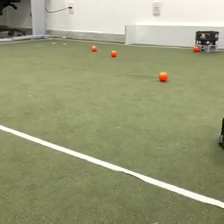ball: (157, 70, 168, 81), (109, 48, 118, 58), (192, 44, 200, 53), (90, 44, 98, 52)
goal: (123, 21, 224, 51)
robot: (193, 28, 219, 53)
